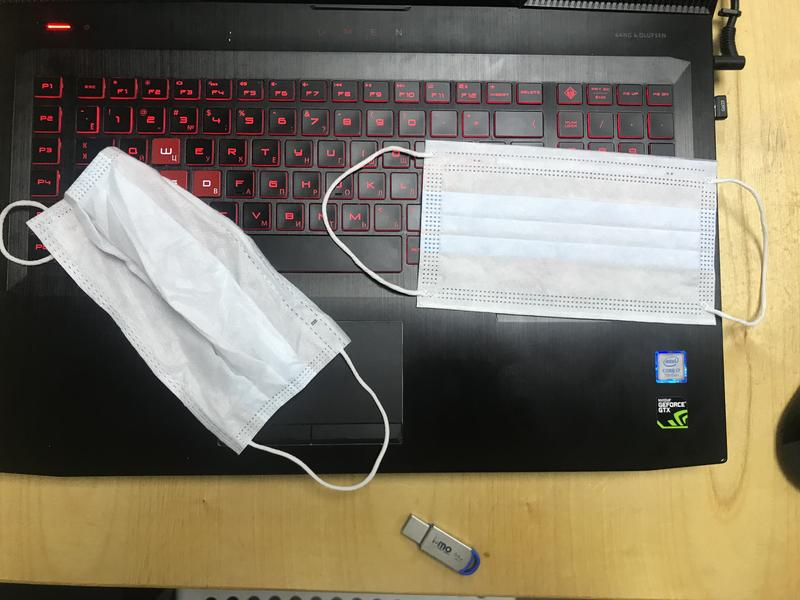medical_mask: (1, 145, 390, 493), (322, 140, 767, 330)
